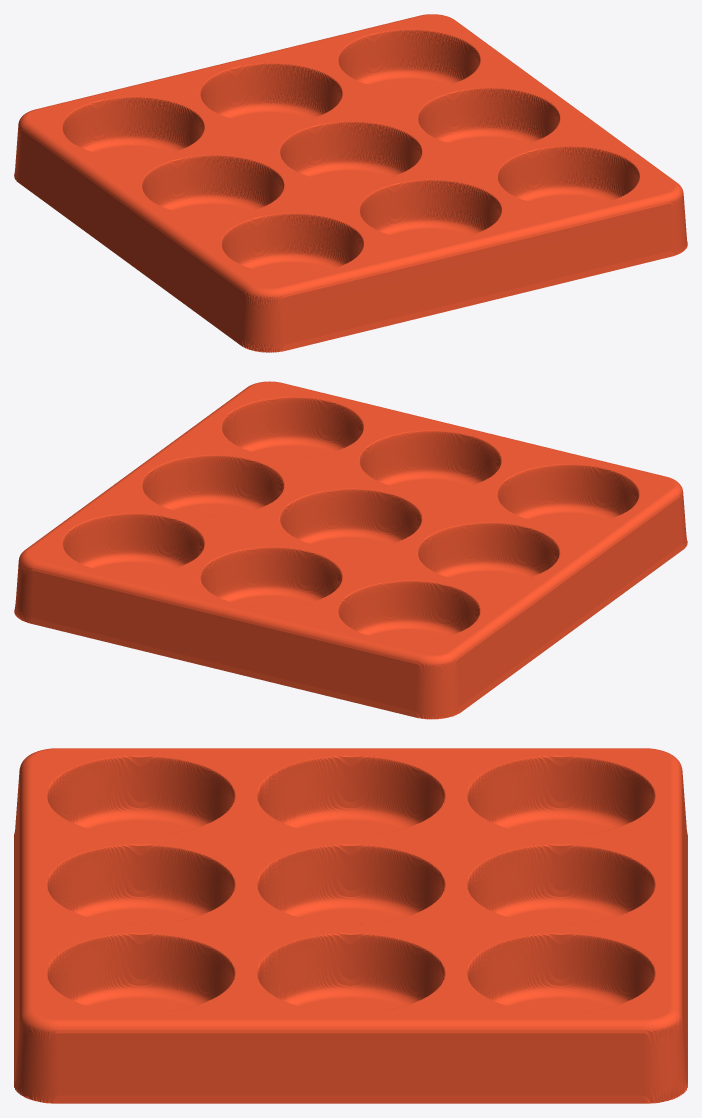
Rendered from mold.glb.
3 renders of one model, top to bottom at view 1: azimuth 30°, elevation 25°; view 2: azimuth 150°, elevation 25°; view 3: azimuth 270°, elevation 25°, orthographic. The views are drawn at different scales.
Visible parts, largest first — view 1: geometry_0; view 2: geometry_0; view 3: geometry_0.
Part boxes in pixels (x1,y1,x2,y2): geometry_0: (14,14,687,352); geometry_0: (14,381,687,719); geometry_0: (14,748,687,1103).
Size of the model in its own units: 0.1387 by 0.0175 by 0.1387.
